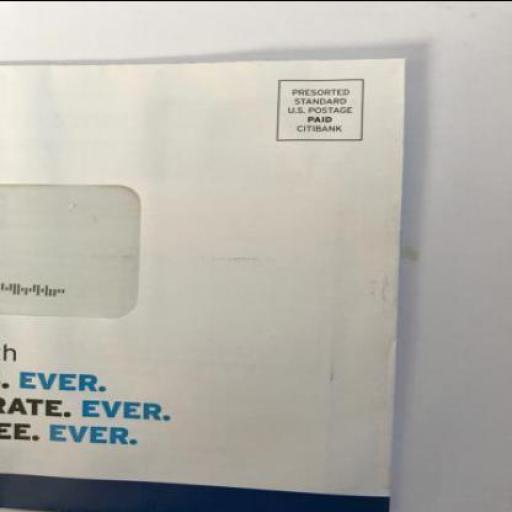paper: (1, 55, 410, 511)
